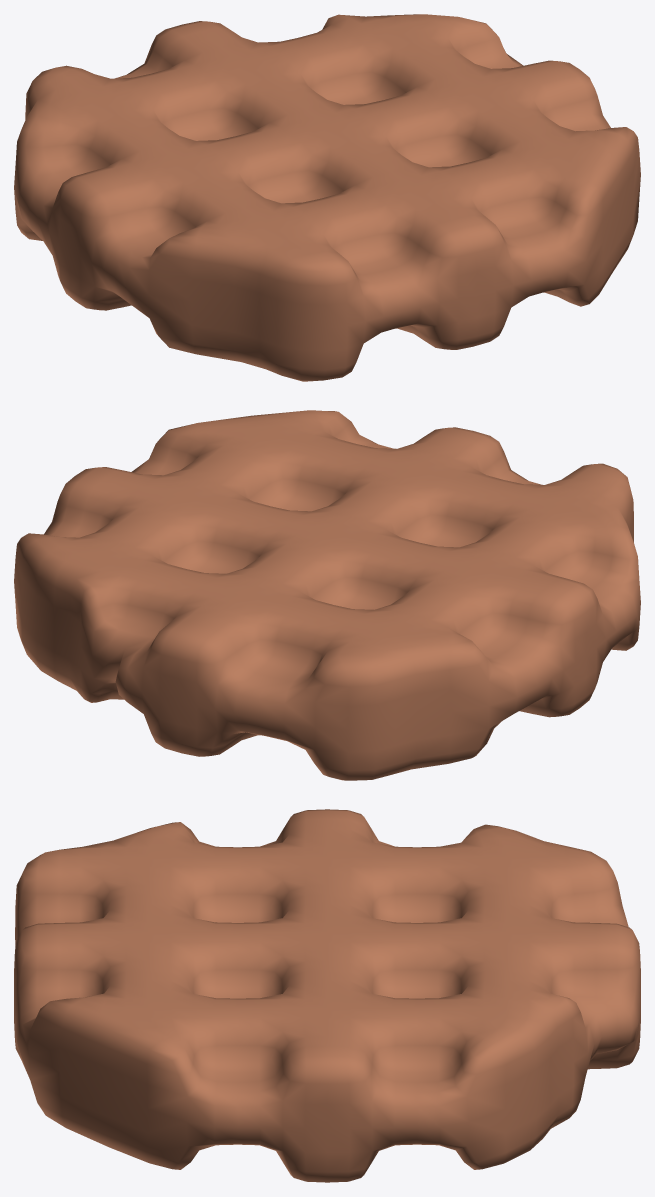
Rendered from Waffle_03.fbx.
The picture shows the model from 3 angles, top to bottom: view 1: azimuth 30°, elevation 25°; view 2: azimuth 150°, elevation 25°; view 3: azimuth 270°, elevation 25°; orthographic projection. The views are drawn at different scales.
Visible parts, largest first — view 1: Waffle_03_LOD0; view 2: Waffle_03_LOD0; view 3: Waffle_03_LOD0.
Boxes of the visible parts, box(x1,y1,x2,y2) form: Waffle_03_LOD0: box(14, 14, 640, 381); Waffle_03_LOD0: box(14, 410, 640, 780); Waffle_03_LOD0: box(14, 809, 640, 1182).
Size of what is drawn, in the model's own units: 558 by 124 by 558.
